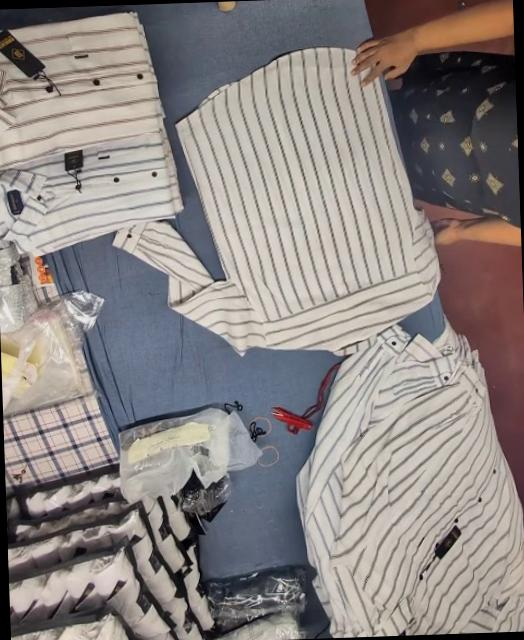new-garment: (119, 47, 438, 352)
